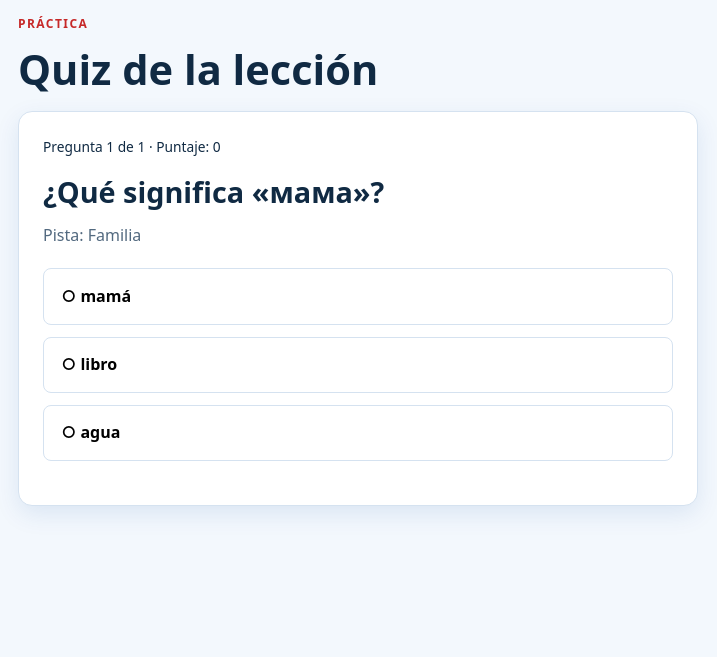
Test: Pregunta de quiz › muestra retroalimentación inmediata con la respuesta correcta y el XP final
Expected: the heading "¿Qué significa «мама»?" is shown, [43,172,384,211]
Click the button "○ libro" at (99, 364), box [43,336,673,393]
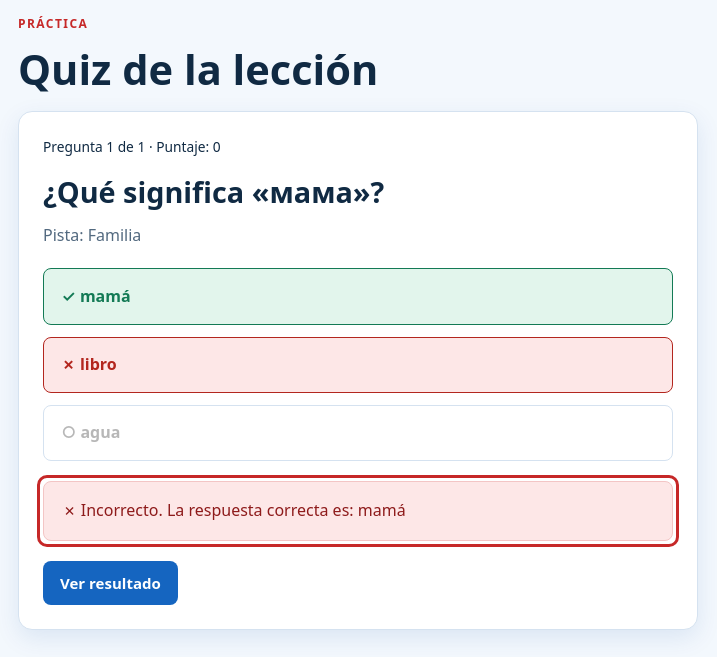
Expected: the text "✗ Incorrecto. La respuesta correcta es: mamá" is shown, [43,481,673,541]
Click the button "Ver resultado" at (110, 583), box [43,561,178,605]
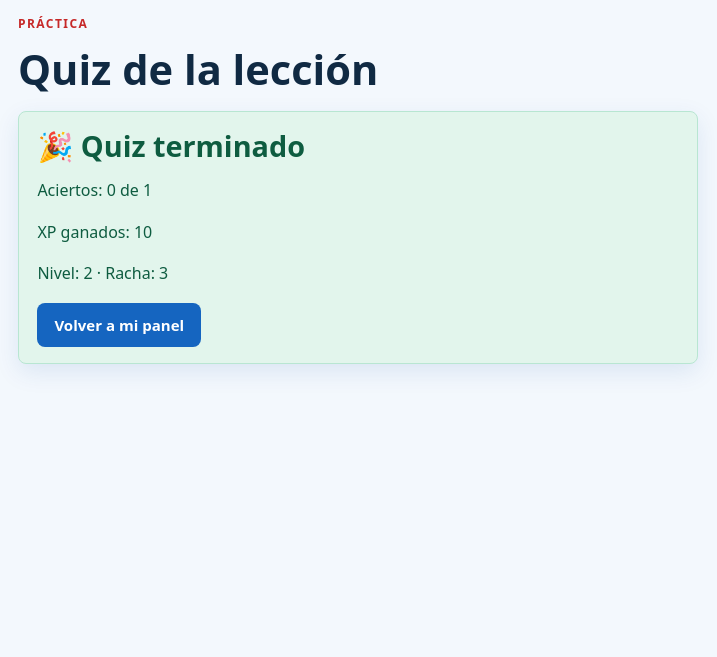
Expected: the text "XP ganados: 10" is shown, [37,221,152,243]
